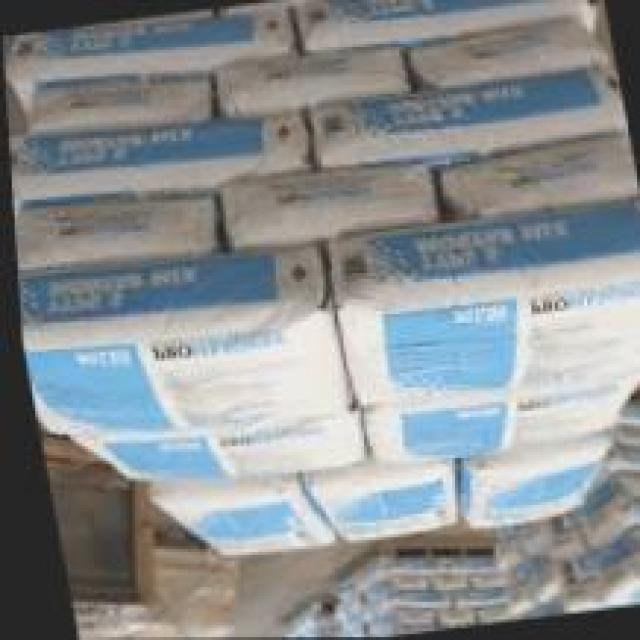gunny_bag: (338, 208, 640, 414), (15, 255, 339, 440), (312, 62, 626, 168), (365, 365, 640, 461), (7, 108, 302, 190), (11, 4, 286, 84), (216, 159, 432, 252), (442, 138, 638, 223), (17, 188, 214, 267), (210, 48, 409, 118), (295, 0, 588, 47), (157, 488, 327, 558), (309, 467, 448, 550), (462, 445, 597, 530), (573, 496, 640, 544), (572, 527, 640, 571), (592, 552, 640, 602), (387, 589, 442, 608), (378, 557, 433, 576), (553, 581, 588, 609), (514, 523, 546, 553), (448, 588, 498, 607), (442, 556, 489, 575), (527, 567, 552, 602), (498, 585, 526, 615), (611, 446, 640, 473), (615, 402, 640, 427), (617, 473, 640, 498), (433, 609, 467, 625)
